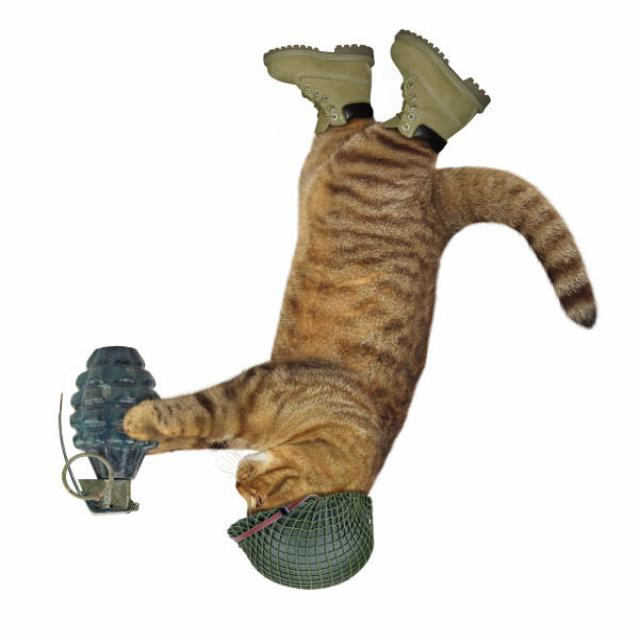grenade: (52, 344, 167, 523)
